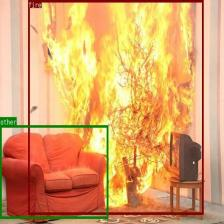fire: (28, 0, 203, 214)
